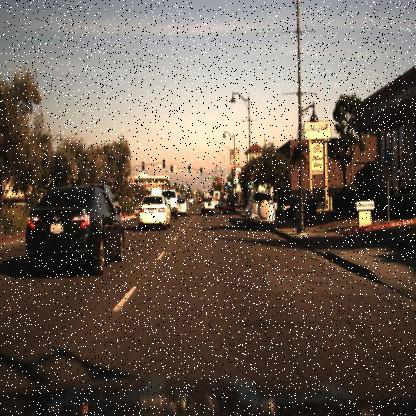car: (24, 182, 125, 276), (240, 187, 277, 234), (245, 190, 276, 231), (138, 195, 170, 228), (222, 194, 238, 216), (200, 195, 214, 218), (177, 194, 189, 219), (175, 194, 187, 216), (149, 186, 166, 198)
